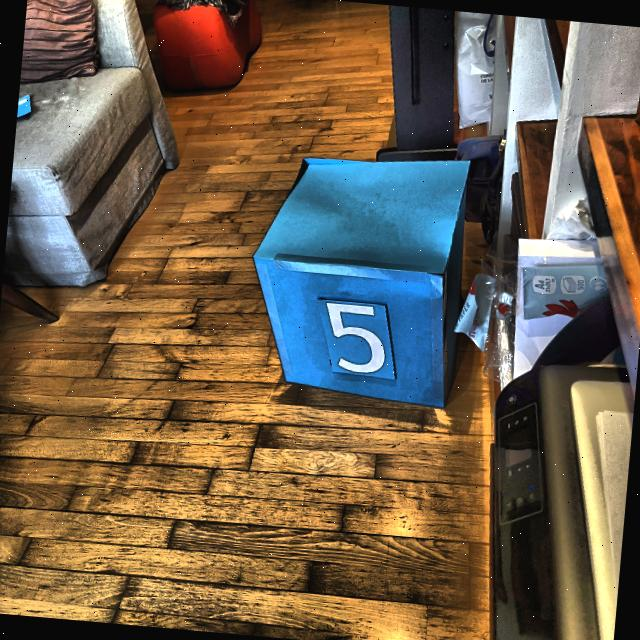blue box: (242, 142, 470, 410)
five: (320, 298, 390, 377)
